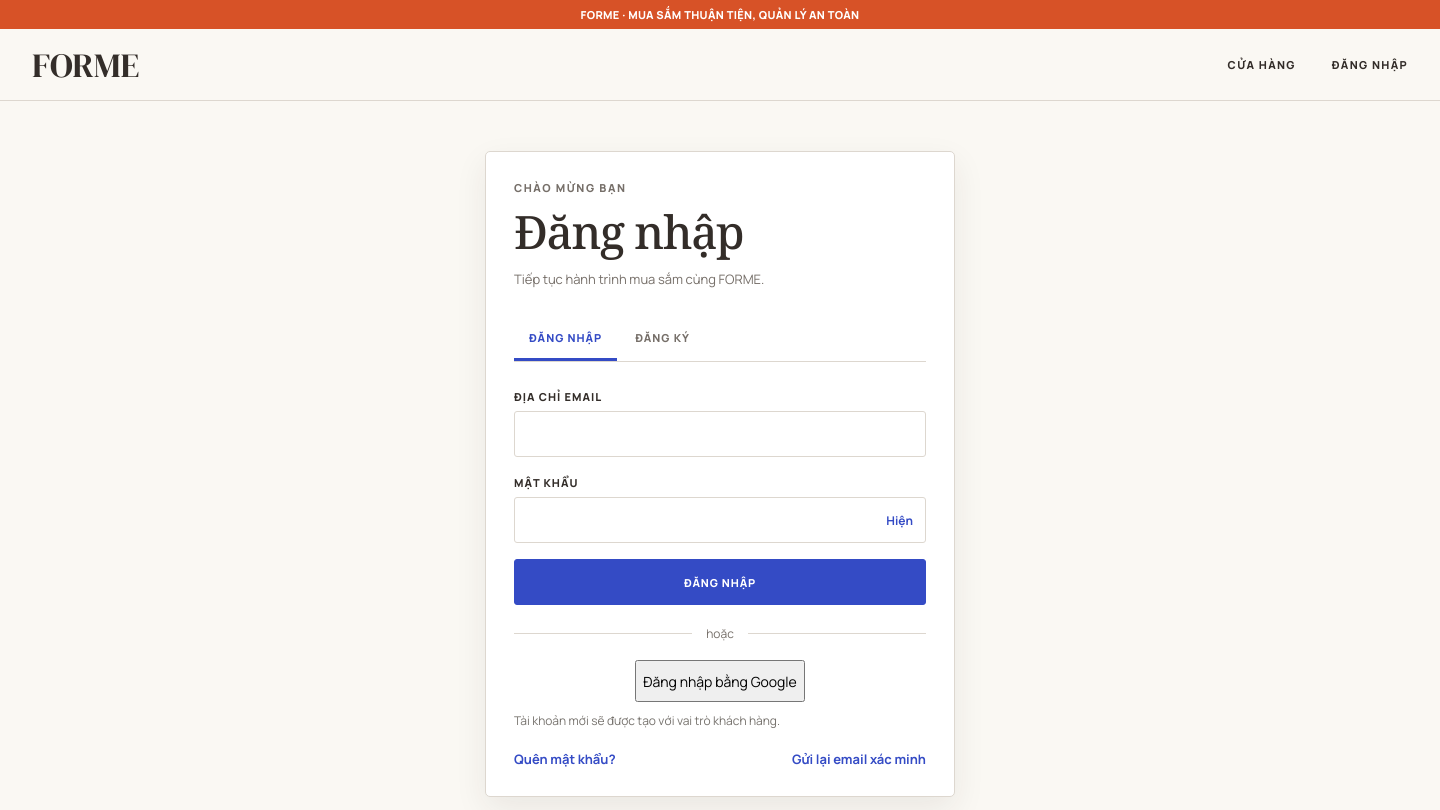
Test case: App › uses the Google credential to open a customer session
Click the button "Đăng nhập bằng Google" at (720,681), box [635, 660, 805, 702]
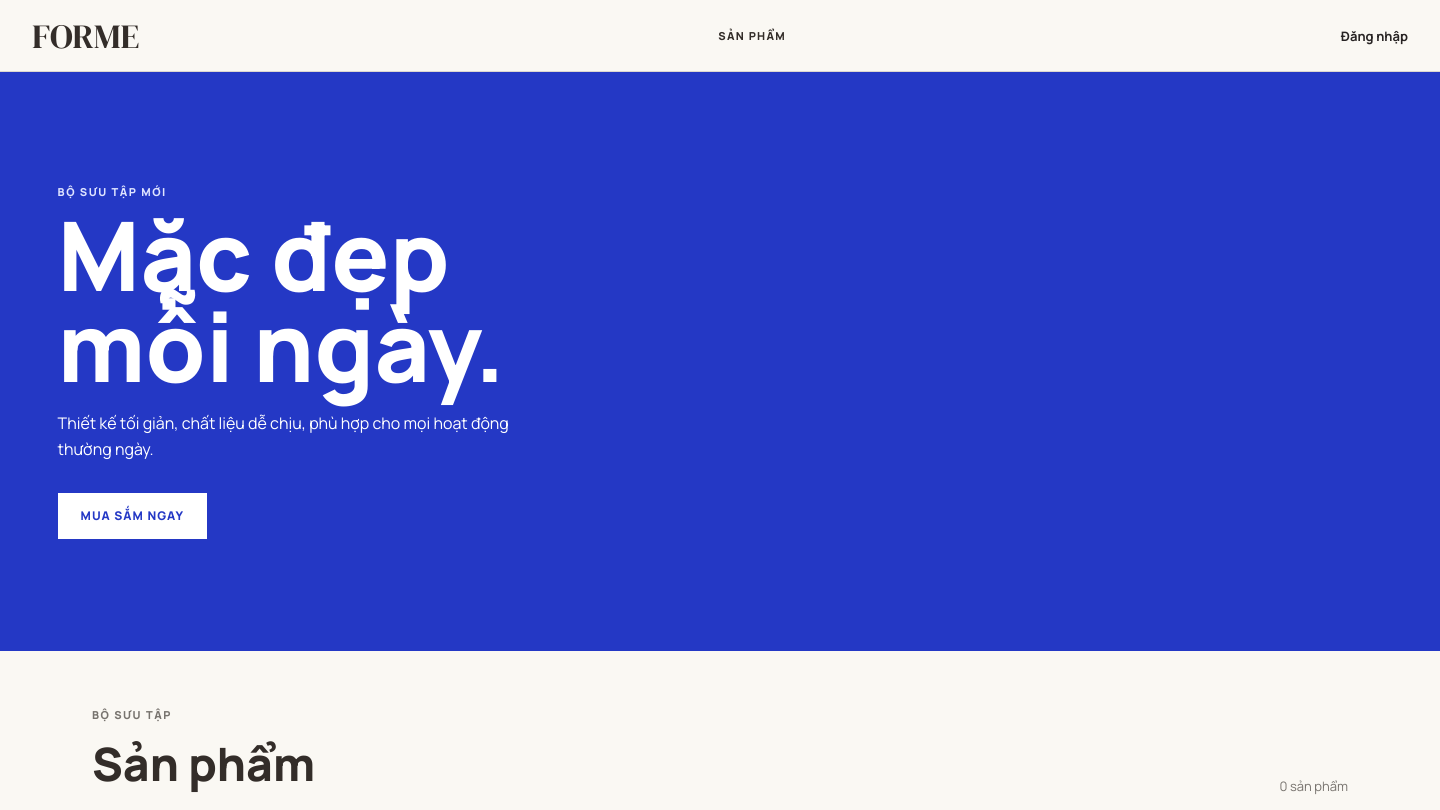
Now the heading "Sản phẩm" is shown, box [92, 732, 315, 795]
